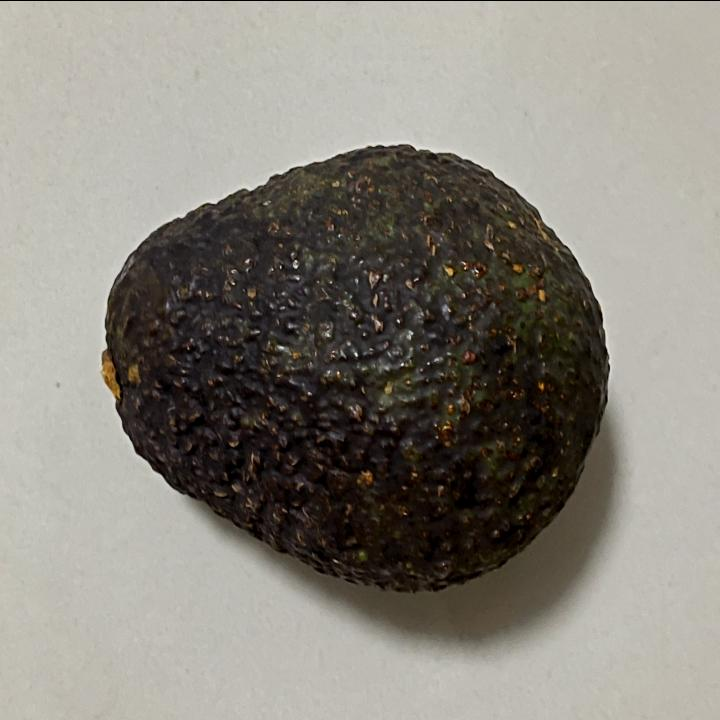Level2: (89, 135, 616, 601)
